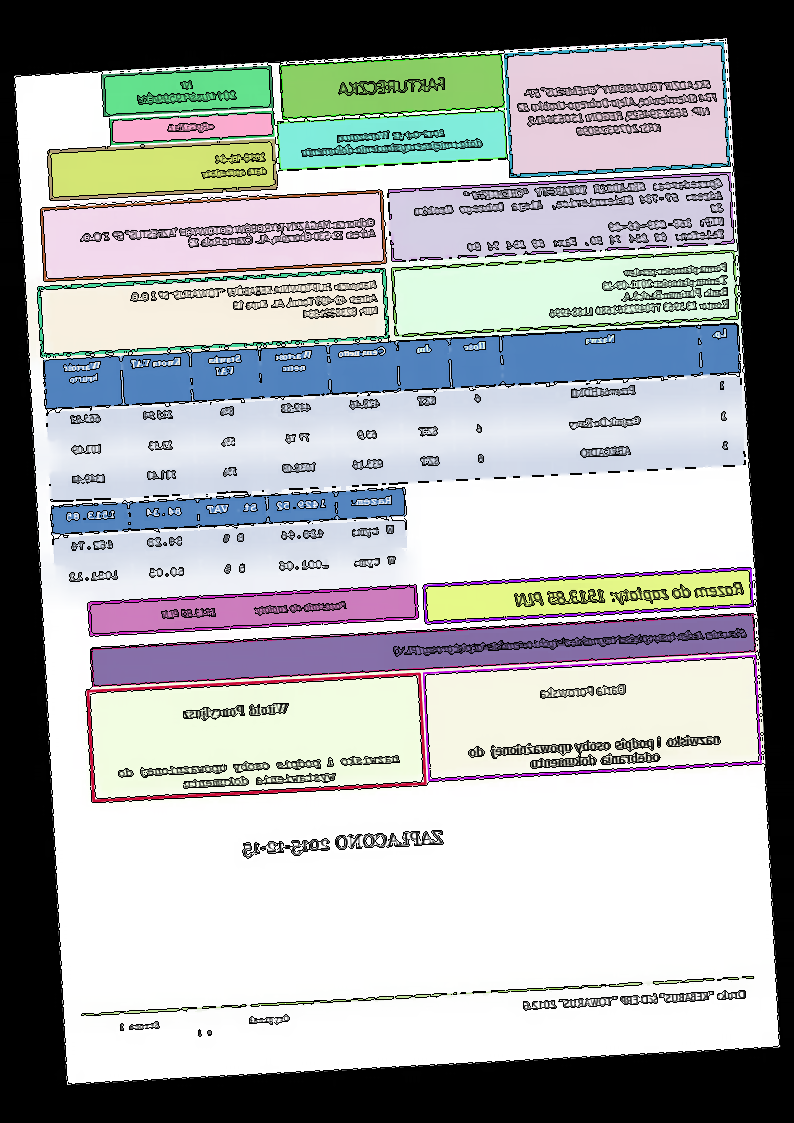Table: (42, 321, 747, 504), (49, 487, 412, 597)
TextBox: (410, 173, 728, 256), (514, 75, 721, 143), (392, 622, 750, 661), (128, 277, 381, 329), (118, 751, 405, 795), (78, 215, 377, 256), (545, 258, 733, 320), (466, 732, 726, 775), (513, 575, 748, 609), (518, 983, 750, 1014), (240, 827, 448, 861), (297, 124, 485, 160), (115, 1013, 292, 1043), (160, 597, 351, 621), (135, 74, 240, 108), (334, 73, 450, 100), (178, 699, 292, 723), (536, 678, 629, 702), (199, 150, 270, 181), (164, 118, 218, 134)
